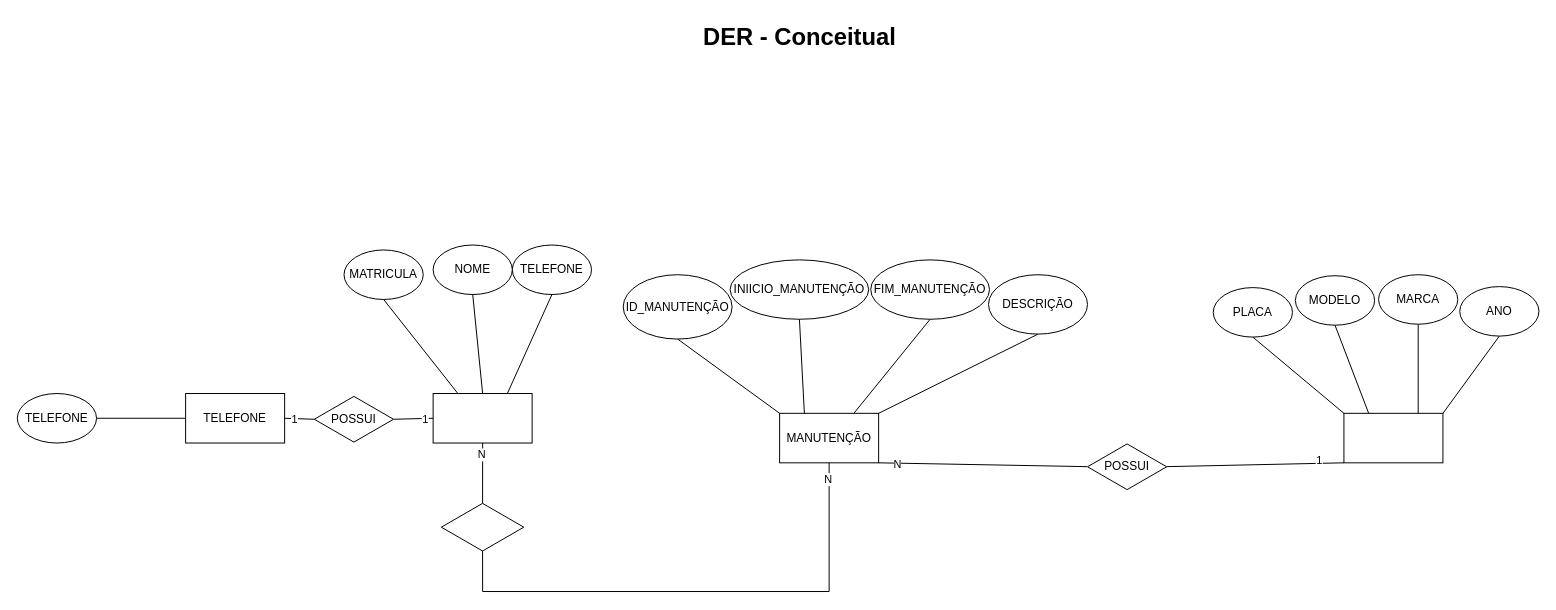
Some shapes in this 1556 by 610 pixel diagram are drawn without their labels. The shapes that lost their labels are listed below. From the top down, each one's centre as x and y in pixels, then its label:
At pixel 482 418: "FUNCIONARIO".
At pixel 1393 437: "VEICULO".
At pixel 482 526: "FAZ".
